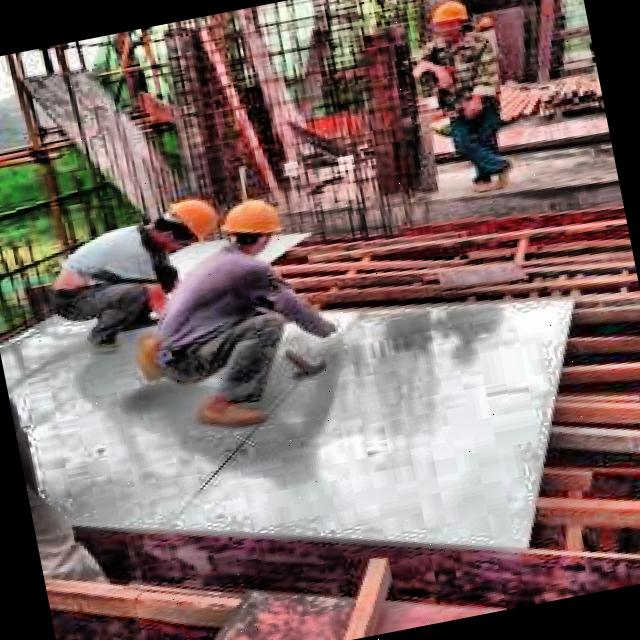helmet: (146, 189, 230, 260), (213, 192, 290, 262), (419, 0, 478, 41)
